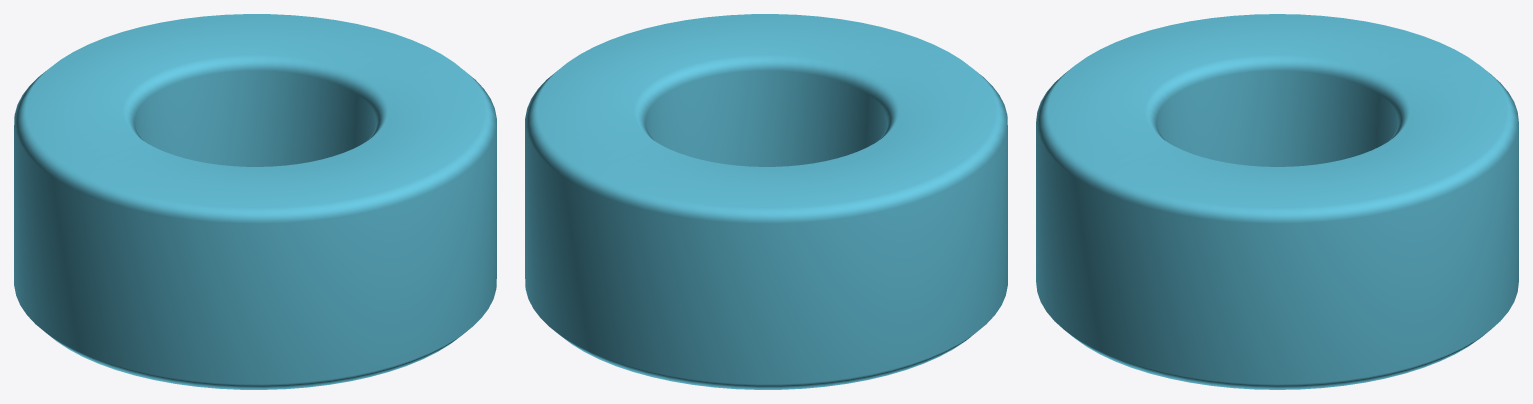
3 views of the same model, side by side, from view 1: azimuth 30°, elevation 25°; view 2: azimuth 150°, elevation 25°; view 3: azimuth 270°, elevation 25° (orthographic).
Parts seen in each view (by area): view 1: seal_body; view 2: seal_body; view 3: seal_body.
Part boxes in pixels (left/top/right/bottom): seal_body: left=14, top=14, right=496, bottom=389; seal_body: left=525, top=14, right=1007, bottom=389; seal_body: left=1036, top=14, right=1518, bottom=389.
Size of the model in its own units: 0.0191 by 0.00793 by 0.0191.
